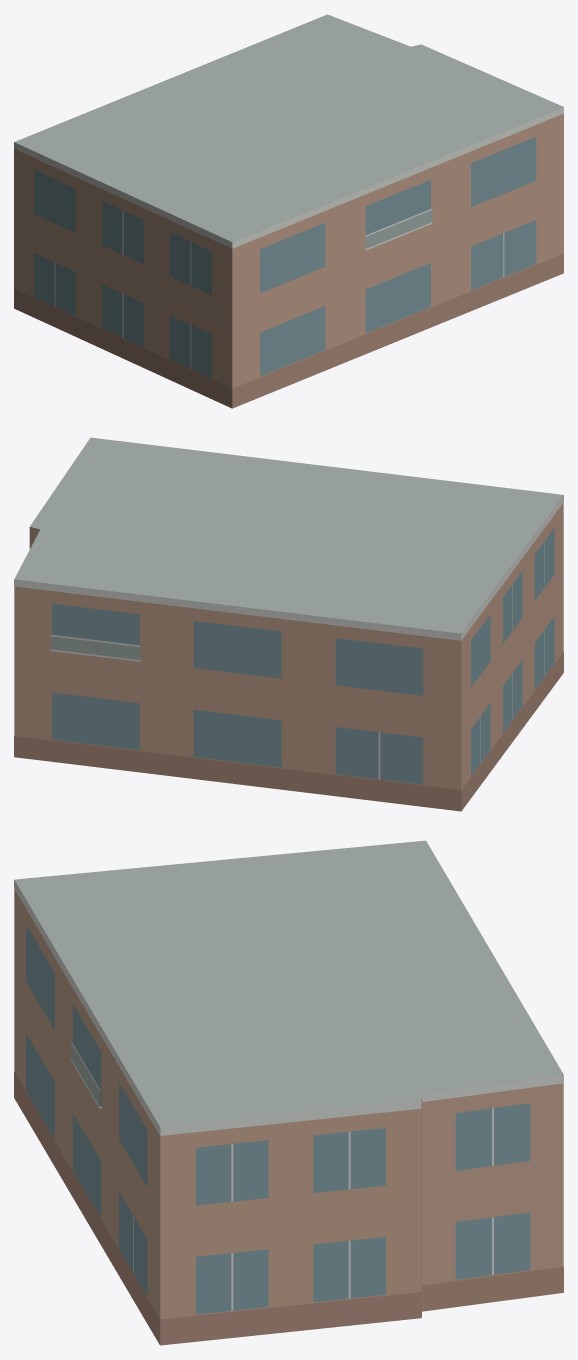
Rendered from survey-upis-32656640.glb.
3 views of the same model, one above another, from view 1: azimuth 30°, elevation 25°; view 2: azimuth 150°, elevation 25°; view 3: azimuth 270°, elevation 25° (orthographic). The views are drawn at different scales.
Parts seen in each view (by area): view 1: survey-upis-32656640.tmp; view 2: survey-upis-32656640.tmp; view 3: survey-upis-32656640.tmp.
Boxes of the visible parts, x1,y1,x2,y2 form: survey-upis-32656640.tmp: [14, 14, 563, 408]; survey-upis-32656640.tmp: [14, 437, 563, 811]; survey-upis-32656640.tmp: [14, 840, 563, 1345].
Size of the model in its own units: 17.21 by 6.1 by 13.94.
